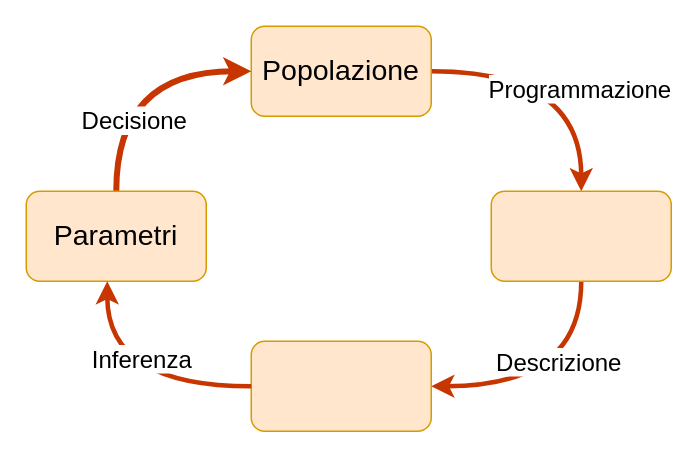
This 698x458 diagram has some shape labels left out. The shapes that lost their labels are listed below. From the top down, each one's centre as x and y in pixels, then its label:
the point at 580,235: Campione
the point at 340,385: Statistiche
